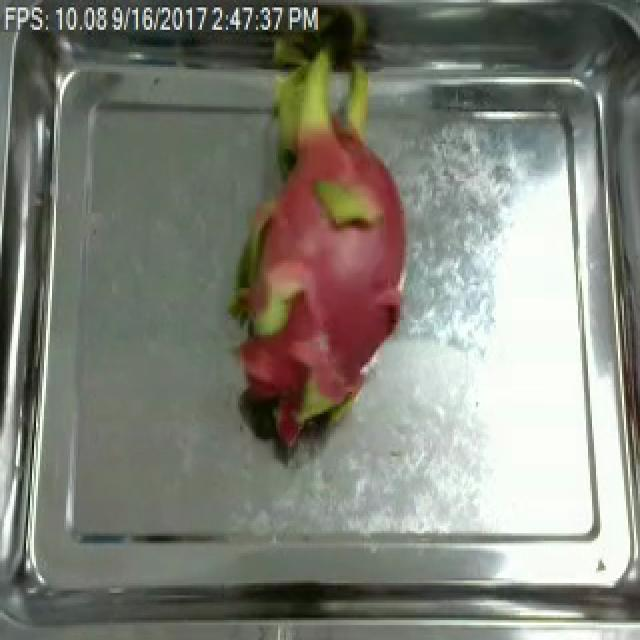fruit: (200, 12, 416, 442)
